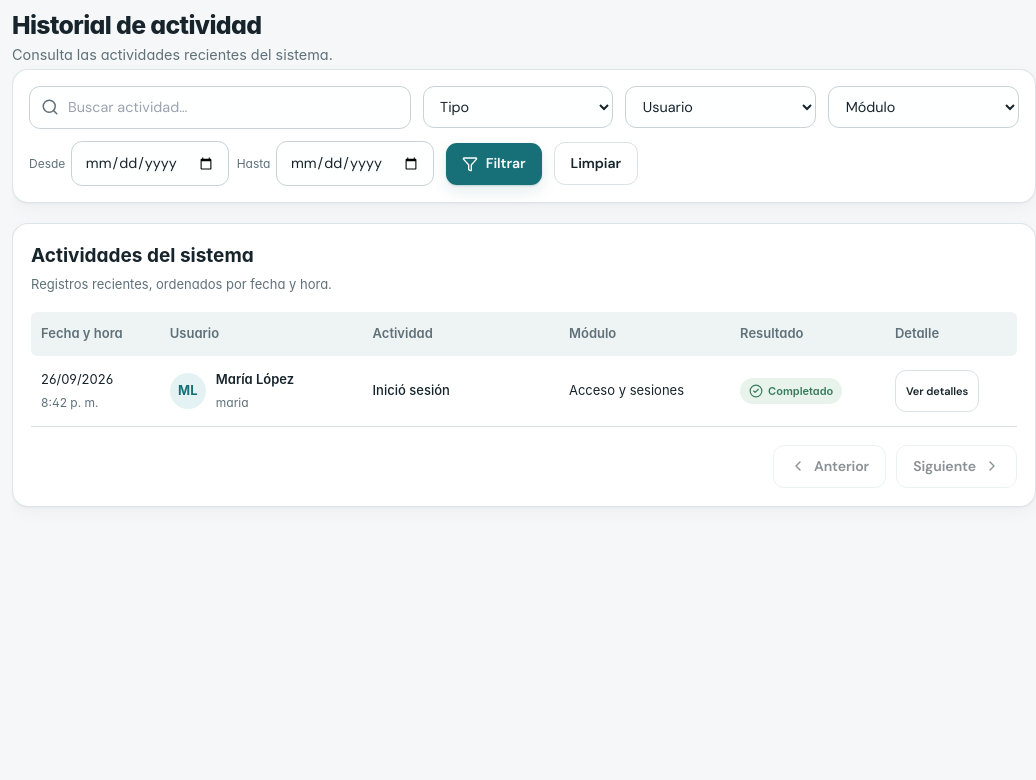
Scenario: login conserva título, módulo, categoría y resultado en escritorio y detalle
Expected: the text "Acceso y sesiones" is shown, [559,356,730,427]
Expected: the text "Completado" is shown, [740,378,842,404]
Click the button "Ver detalles". click: click(937, 391)
box: [895,370,979,412]
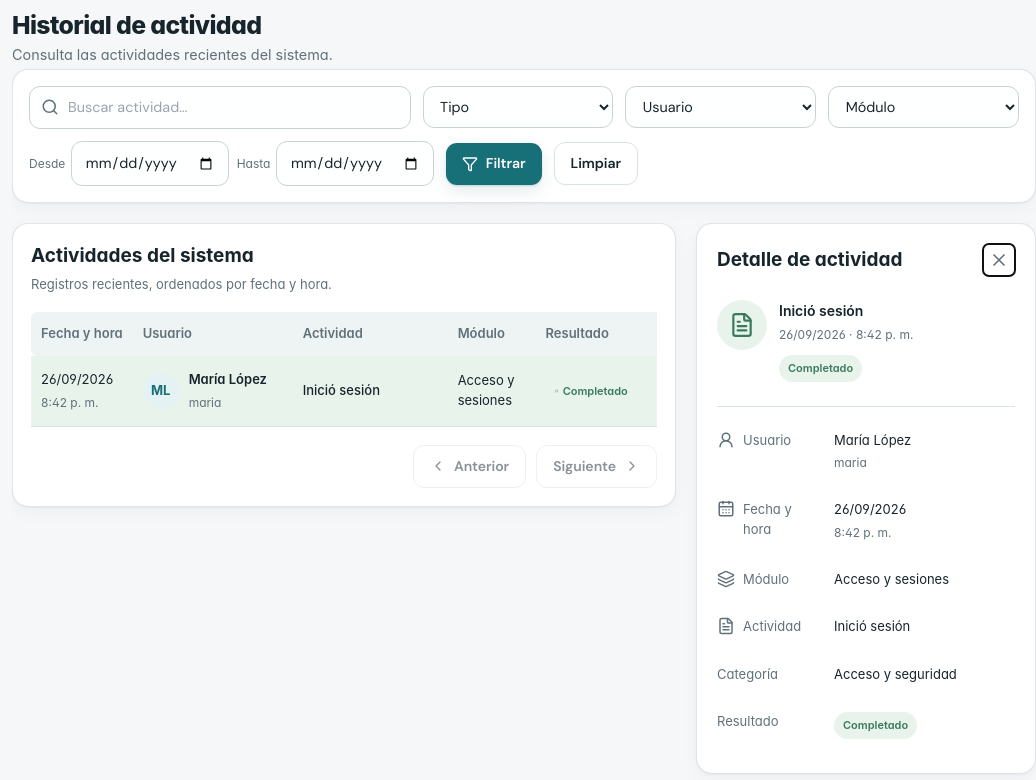
Expected: the heading "Inició sesión" is shown, [779,302,863,319]
Expected: the text "Acceso y sesiones" is shown, [834,571,949,587]
Expected: the text "Acceso y seguridad" is shown, [834,666,957,682]
